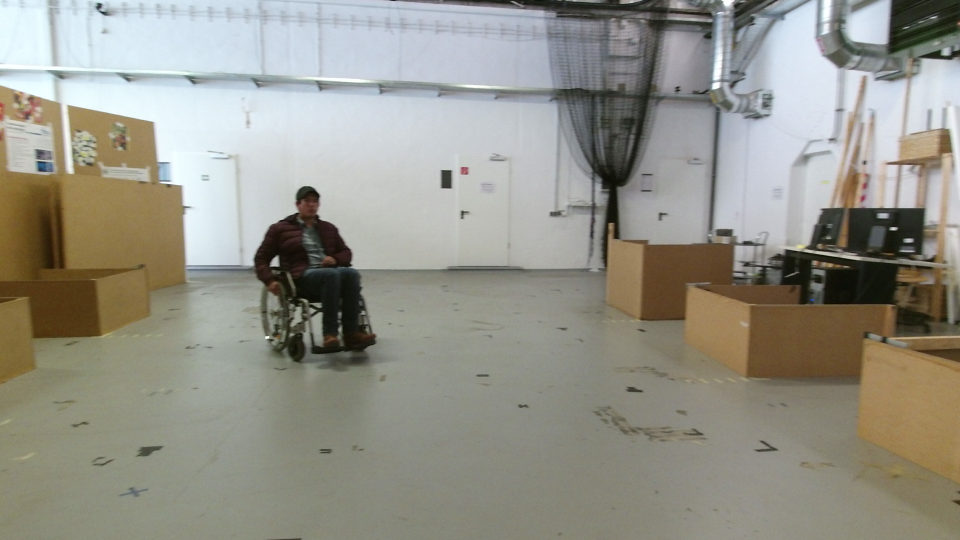wheelchair: (247, 180, 375, 365)
